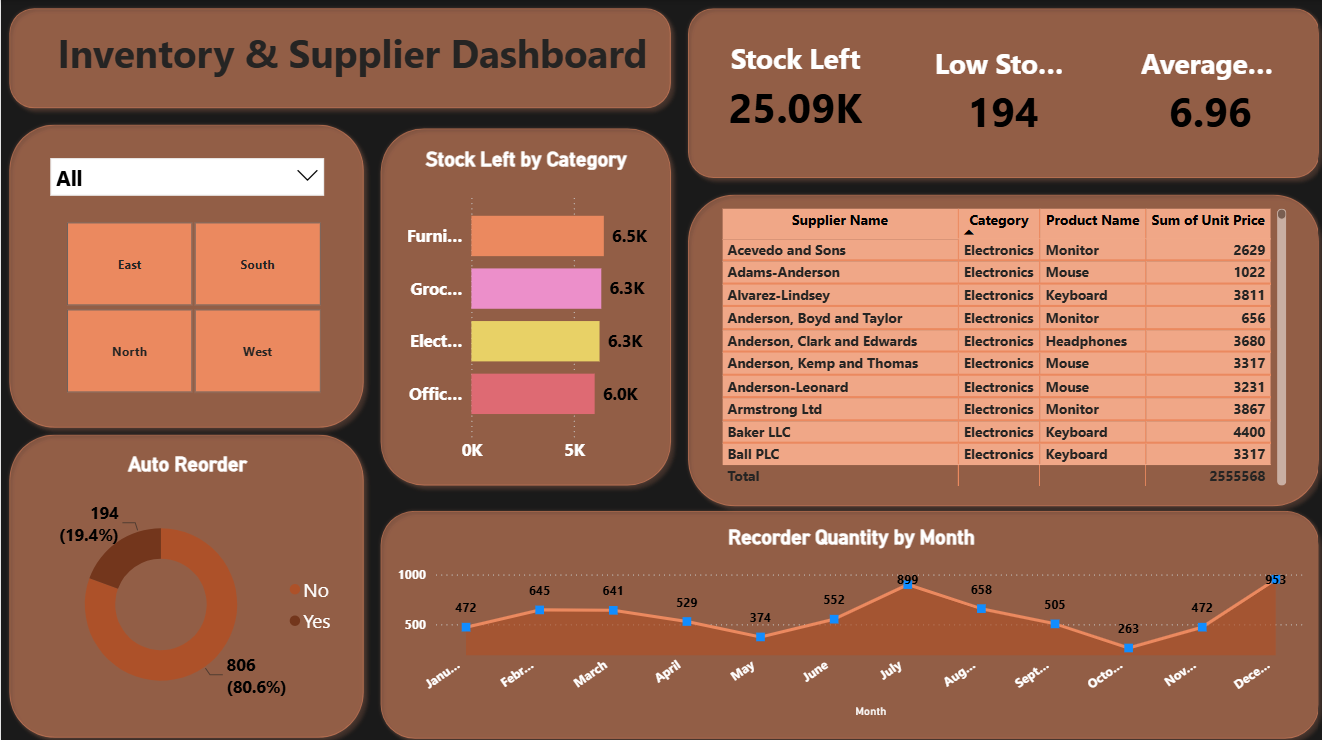

This screenshot's page, from the dashboard's own definition file:
{"tool":"powerbi","page":{"name":"Page 2","canvas":[1280,720],"ordinal":1},"visuals":[{"type":"shape","box":[0,0,654.5,112.5],"z":0},{"type":"shape","box":[0,112.5,358.1,308.7],"z":1000},{"type":"textbox","box":[49.4,20.6,590.1,72.7],"z":2000},{"type":"slicer","fields":{"Values":["store_management_system.Category"]},"box":[37,142.7,284,74.1],"z":3000},{"type":"slicer","fields":{"Values":["store_management_system.Region"]},"box":[37,207.2,295,178.4],"z":4000},{"type":"shape","box":[654.5,0,625.7,179.8],"z":5000},{"type":"cardVisual","fields":{"Data":["Sum(store_management_system.Stock Left)"]},"box":[671,20.6,192.1,126.2],"z":6000},{"type":"cardVisual","fields":{"Data":["CountNonNull(store_management_system.Stock Left)"]},"box":[872.7,20.6,190.7,135.8],"z":7000},{"type":"cardVisual","fields":{"Data":["Avg(store_management_system.Reorder Quantity)"]},"box":[1071.7,20.6,192.1,135.8],"z":8000},{"type":"shape","box":[0,411.7,358.1,308.7],"z":9000},{"type":"shape","box":[654.5,179.8,625.7,317],"z":10000},{"type":"shape","box":[358.1,484.4,922.1,236],"z":11000},{"type":"shape","box":[358.1,115.3,296.4,360.9],"z":12000},{"type":"donutChart","title":"Auto Reorder","fields":{"Category":["store_management_system.Auto Reorder"],"Y":["CountNonNull(store_management_system.Auto Reorder)"]},"box":[27.4,436.4,304.6,260.7],"z":13000},{"type":"lineChart","fields":{"Category":["store_management_system.Ship Date.Variation.Date Hierarchy.Month"],"Y":["Sum(store_management_system.Reorder Quantity)"]},"box":[377.4,507.7,886.5,189.4],"z":14000},{"type":"barChart","fields":{"Category":["store_management_system.Category"],"Y":["Sum(store_management_system.Stock Left)"]},"box":[374.6,142.7,263.5,314.2],"z":15000},{"type":"tableEx","fields":{"Values":["store_management_system.Supplier Name","store_management_system.Category","store_management_system.Product Name","Sum(store_management_system.Unit Price)"]},"box":[690.2,196.2,555.7,277.2],"z":16000}]}

Visuals, with their boxes in screenshot pixels (x1, y1, x2, y2), scaled from the page's 1280x720 canvas onto the 1322x740 screenshot:
shape: [0, 0, 676, 116]
shape: [0, 116, 370, 433]
textbox: [51, 21, 660, 96]
slicer - store_management_system.Category: [38, 147, 332, 223]
slicer - store_management_system.Region: [38, 213, 343, 396]
shape: [676, 0, 1321, 185]
cardVisual - Sum(store_management_system.Stock Left): [693, 21, 891, 151]
cardVisual - CountNonNull(store_management_system.Stock Left): [901, 21, 1098, 161]
cardVisual - Avg(store_management_system.Reorder Quantity): [1107, 21, 1305, 161]
shape: [0, 423, 370, 739]
shape: [676, 185, 1321, 511]
shape: [370, 498, 1321, 739]
shape: [370, 119, 676, 489]
"Auto Reorder" donutChart: [28, 449, 343, 716]
lineChart - store_management_system.Ship Date.Variation.Date Hierarchy.Month x Sum(store_management_system.Reorder Quantity): [390, 522, 1305, 716]
barChart - store_management_system.Category x Sum(store_management_system.Stock Left): [387, 147, 659, 470]
tableEx - store_management_system.Supplier Name x store_management_system.Category: [713, 202, 1287, 487]
